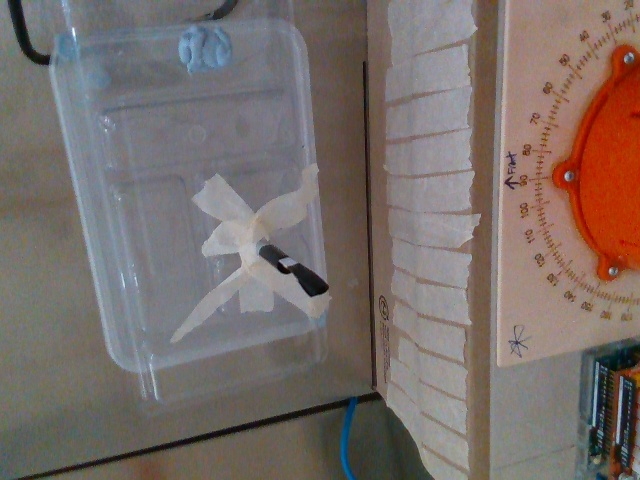test_strip: (273, 257, 326, 297)
